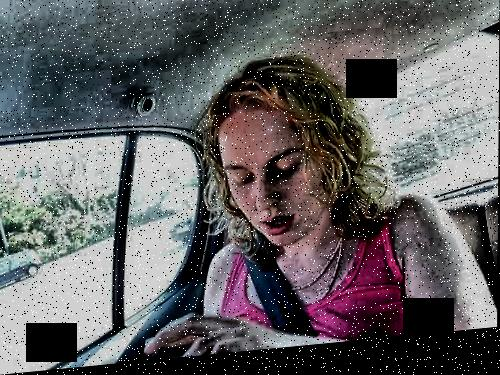seatbelt: (229, 218, 317, 341)
